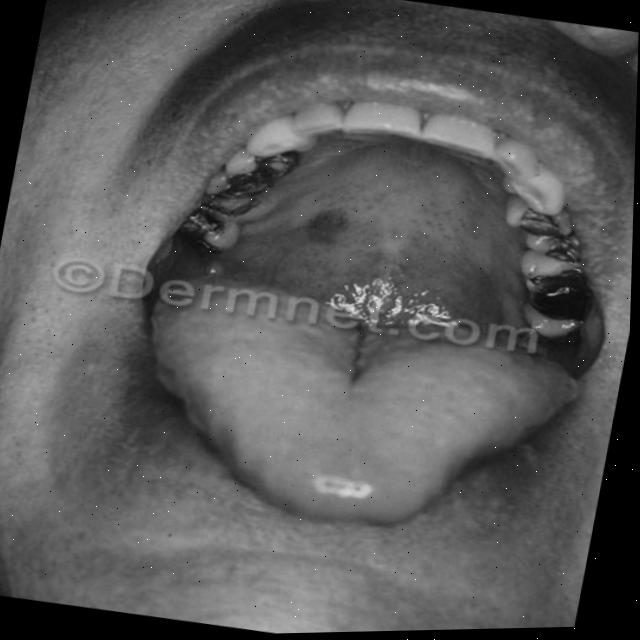Shingles: (304, 203, 352, 258)
